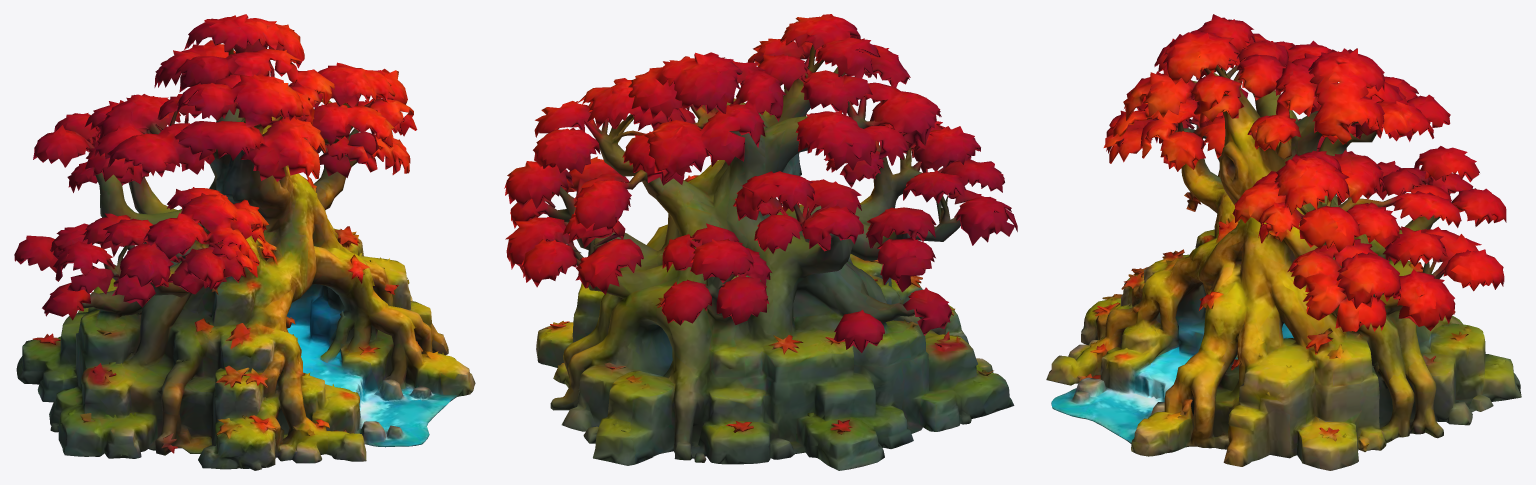
The model's file is magical tree 3d model.glb.
3 views of the same model, side by side, from view 1: azimuth 30°, elevation 25°; view 2: azimuth 150°, elevation 25°; view 3: azimuth 270°, elevation 25° (orthographic). The views are drawn at different scales.
Parts seen in each view (by area): view 1: tripo_node_e7d7782a-ed6f-4b5b-8ae2-f2e7aeee8d09; view 2: tripo_node_e7d7782a-ed6f-4b5b-8ae2-f2e7aeee8d09; view 3: tripo_node_e7d7782a-ed6f-4b5b-8ae2-f2e7aeee8d09.
Boxes of the visible parts, left/top/right/bottom form: tripo_node_e7d7782a-ed6f-4b5b-8ae2-f2e7aeee8d09: left=14, top=14, right=475, bottom=470; tripo_node_e7d7782a-ed6f-4b5b-8ae2-f2e7aeee8d09: left=504, top=14, right=1017, bottom=470; tripo_node_e7d7782a-ed6f-4b5b-8ae2-f2e7aeee8d09: left=1046, top=14, right=1521, bottom=470.
Size of the model in its own units: 1 by 0.7592 by 0.9803.
Materials: 1 (1 with a texture image).
